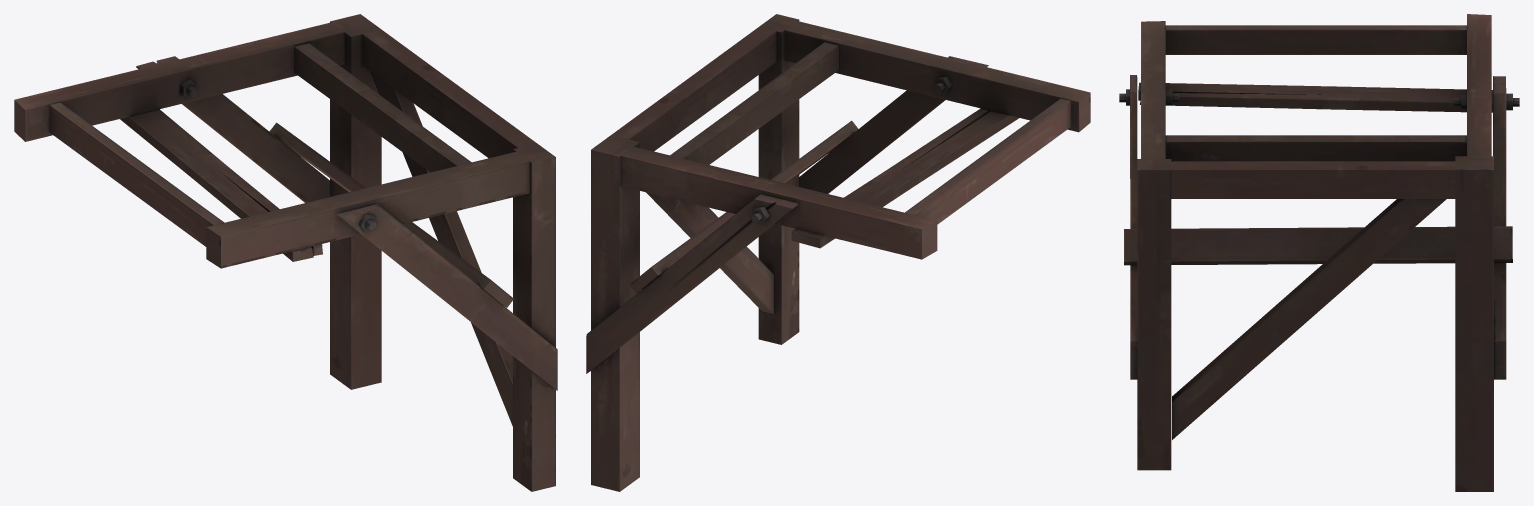
3 renders of one model, left to right at view 1: azimuth 30°, elevation 25°; view 2: azimuth 150°, elevation 25°; view 3: azimuth 270°, elevation 25°, orthographic. The views are drawn at different scales.
Visible parts, largest first — view 1: body0_model0_lod0_mesh0; view 2: body0_model0_lod0_mesh0; view 3: body0_model0_lod0_mesh0.
Part boxes in pixels (x1=…): body0_model0_lod0_mesh0: x1=14, y1=14, x2=557, y2=491; body0_model0_lod0_mesh0: x1=586, y1=14, x2=1090, y2=491; body0_model0_lod0_mesh0: x1=1119, y1=14, x2=1519, y2=491.
Size of the model in its own units: 138 by 133 by 150.
Materials: 1 (1 with a texture image).
